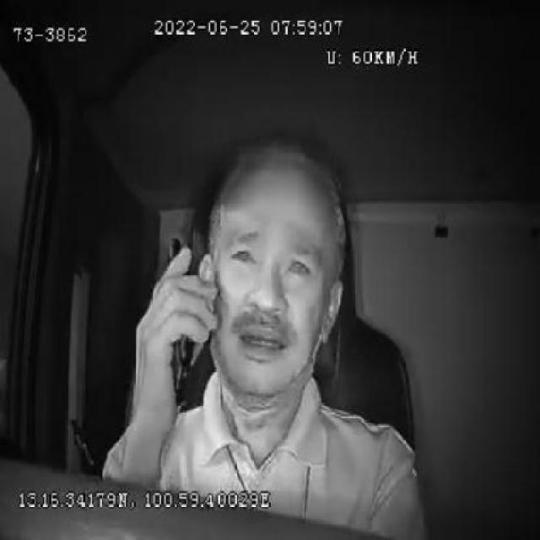phone: (164, 231, 197, 410)
